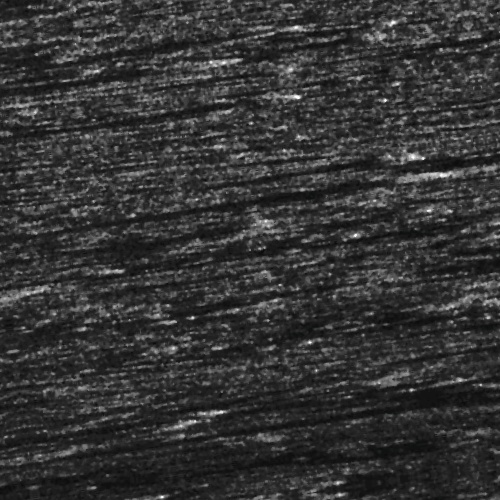object: (125, 489, 292, 500), (134, 396, 239, 407), (0, 483, 44, 492)
shadow: (128, 412, 500, 427), (138, 428, 500, 439), (0, 489, 208, 500), (253, 407, 500, 416), (428, 368, 500, 393), (40, 396, 186, 407)
